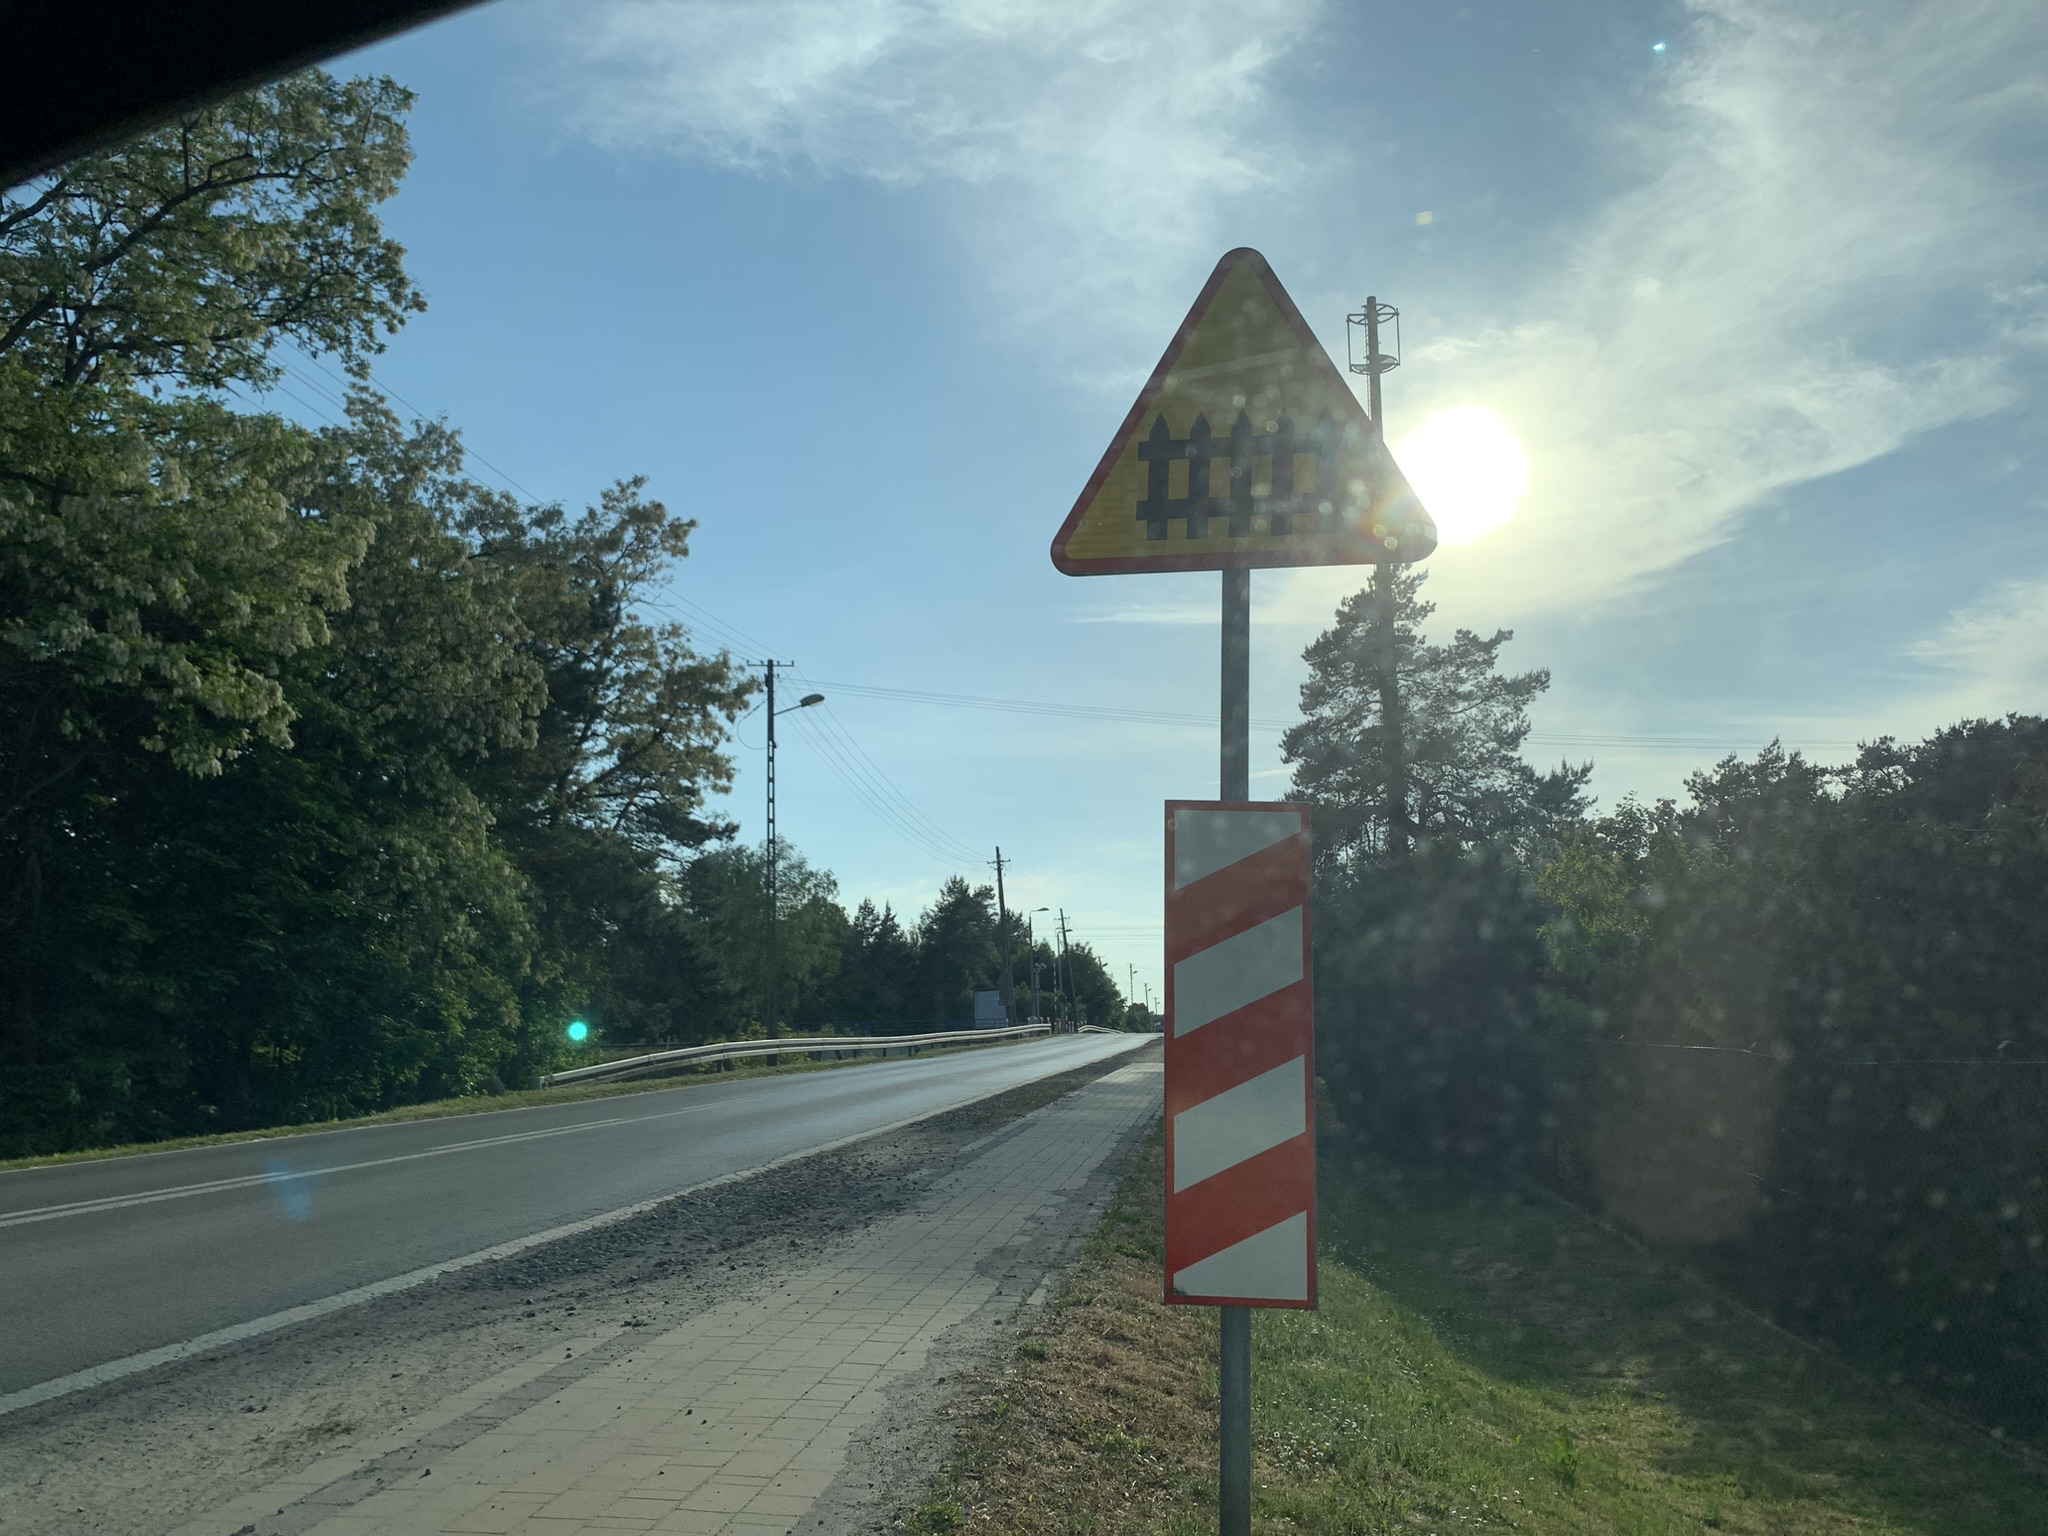a9: (1118, 407, 1372, 555)
